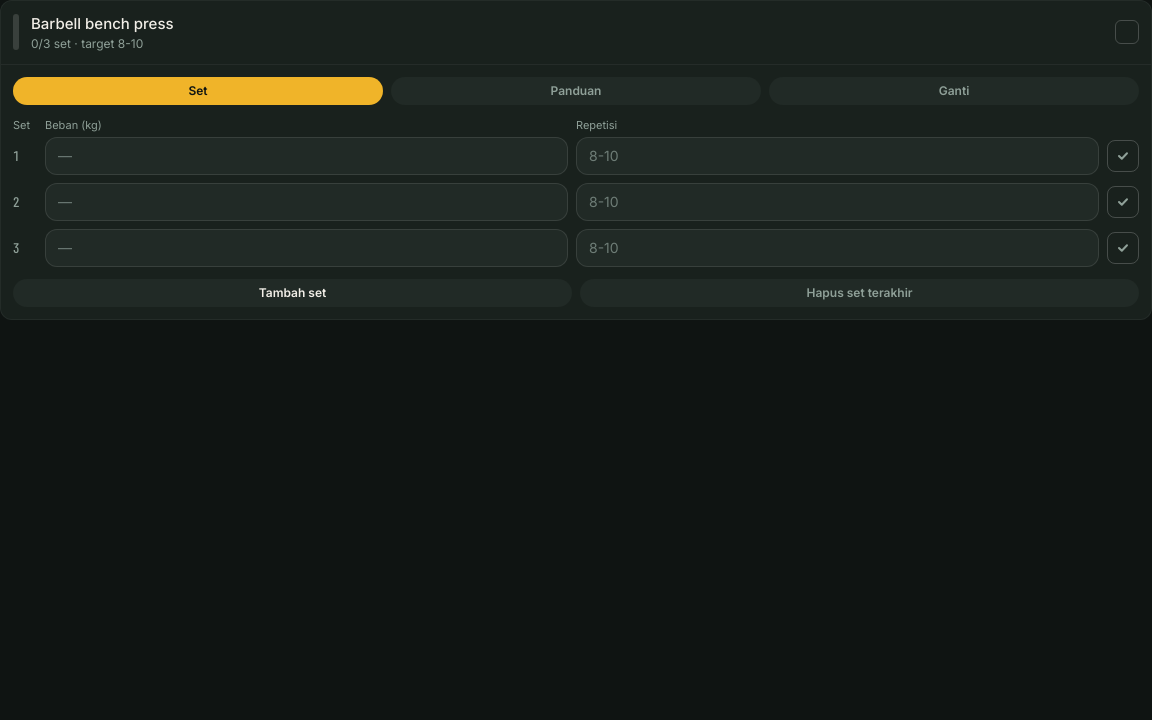
Test case: TaskRow — panduan dan ganti gerakan › memilih pengganti mengirim nama baru lalu kembali ke panel set
The width and height of the screenshot is (1152, 720).
Click the button "Ganti".
click(954, 90)  # box [769,76,1139,104]
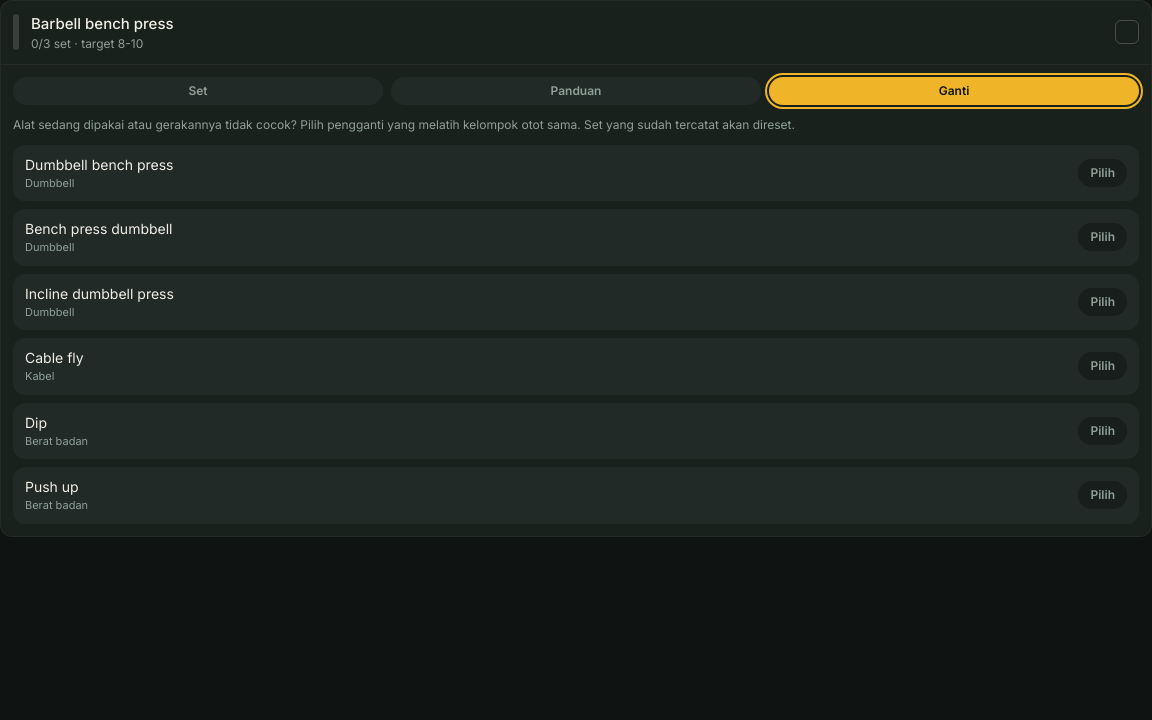
Click the button "Dumbbell bench press Dumbbell Pilih".
click(99, 164)  # box [13,144,1139,201]
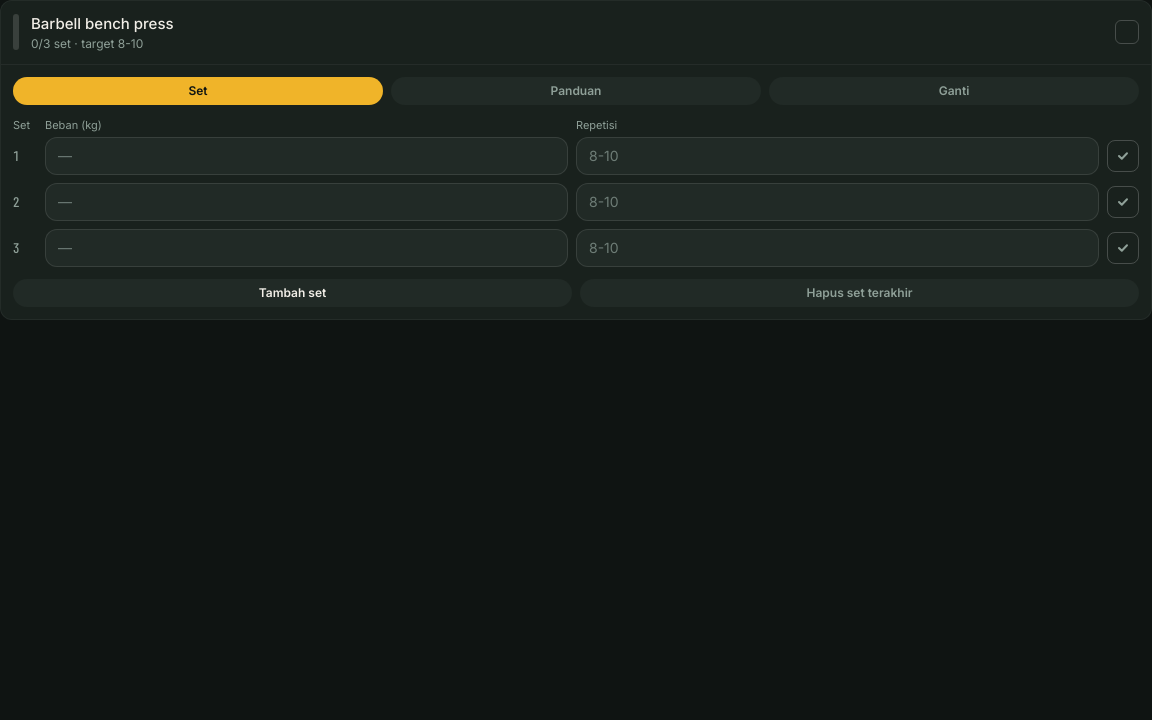
Now the button "Tambah set" is shown, box [13,279,572,307]
